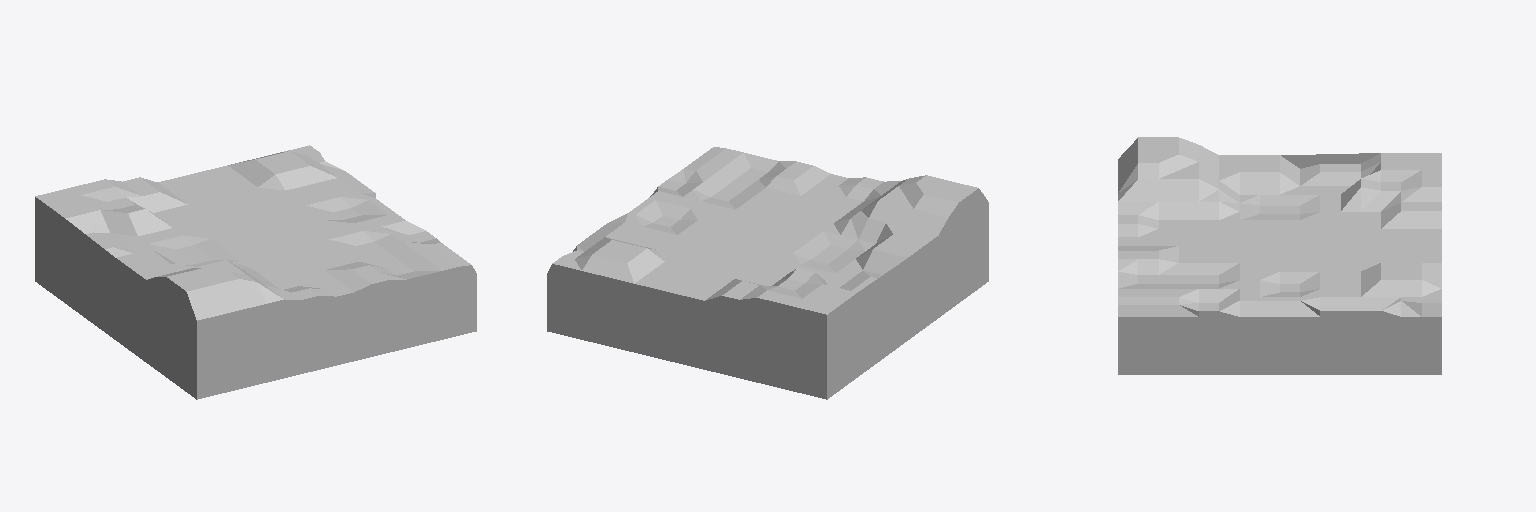
The model's file is cenario3.obj.
3 renders of one model, left to right at view 1: azimuth 30°, elevation 25°; view 2: azimuth 150°, elevation 25°; view 3: azimuth 270°, elevation 25°, orthographic.
Visible parts, largest first — view 1: base_relevo2_Cube.003; view 2: base_relevo2_Cube.003; view 3: base_relevo2_Cube.003.
Boxes of the visible parts, x1,y1,x2,y2 form: base_relevo2_Cube.003: [35, 145, 476, 399]; base_relevo2_Cube.003: [547, 147, 988, 399]; base_relevo2_Cube.003: [1118, 137, 1441, 374].
Bounding box in the file's own units: 2 × 0.6863 × 2.